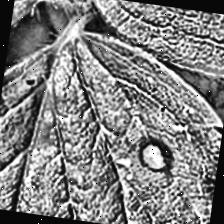Leaf Spot: (0, 17, 224, 224), (40, 0, 224, 79)
